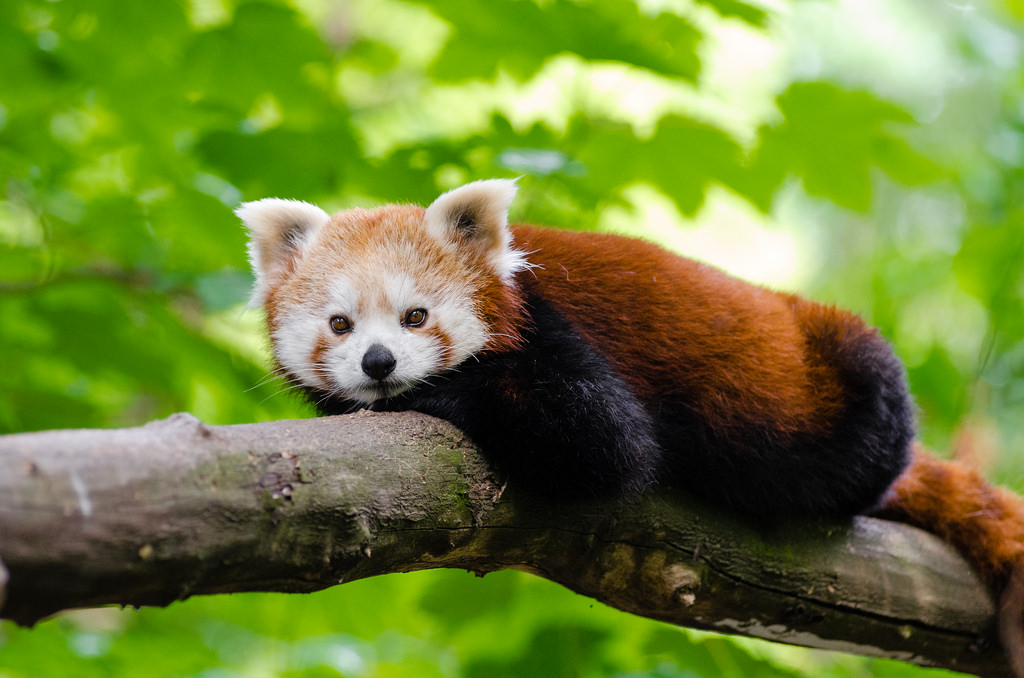red_panda: (227, 172, 1024, 576)
